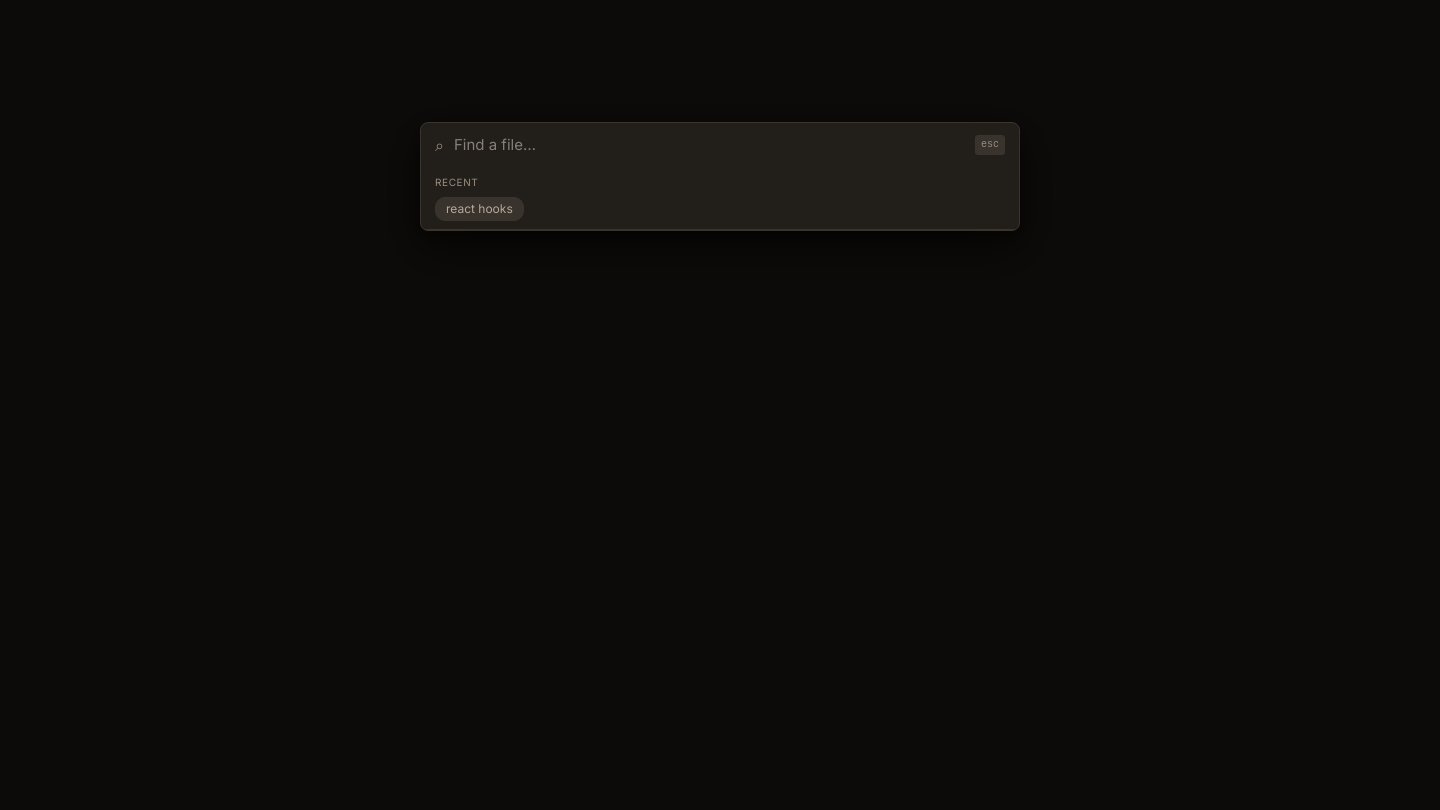
Test: SearchPalette — recent searches › clicking a recent chip fills the input
This screenshot has width=1440, height=810.
Click the button "react hooks" at (479, 209), box x1=435 y1=197 x2=524 y2=221
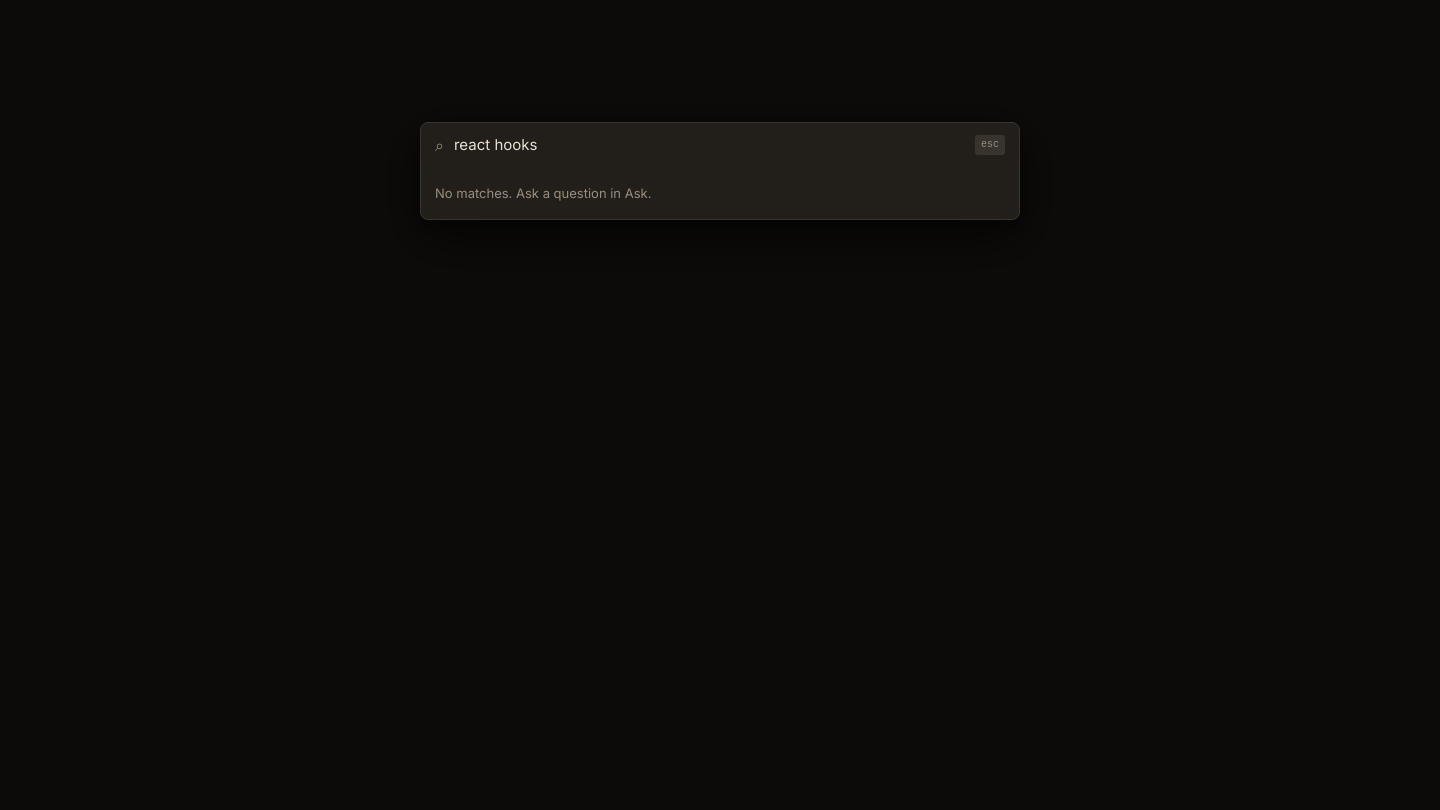
Expected: the field with test id "search-input" holds "react hooks", x1=454 y1=133 x2=965 y2=157
